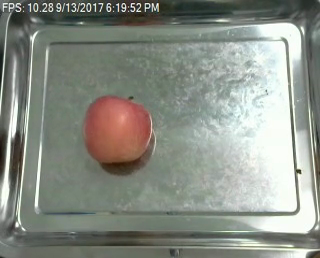Apple: (80, 91, 154, 171)
